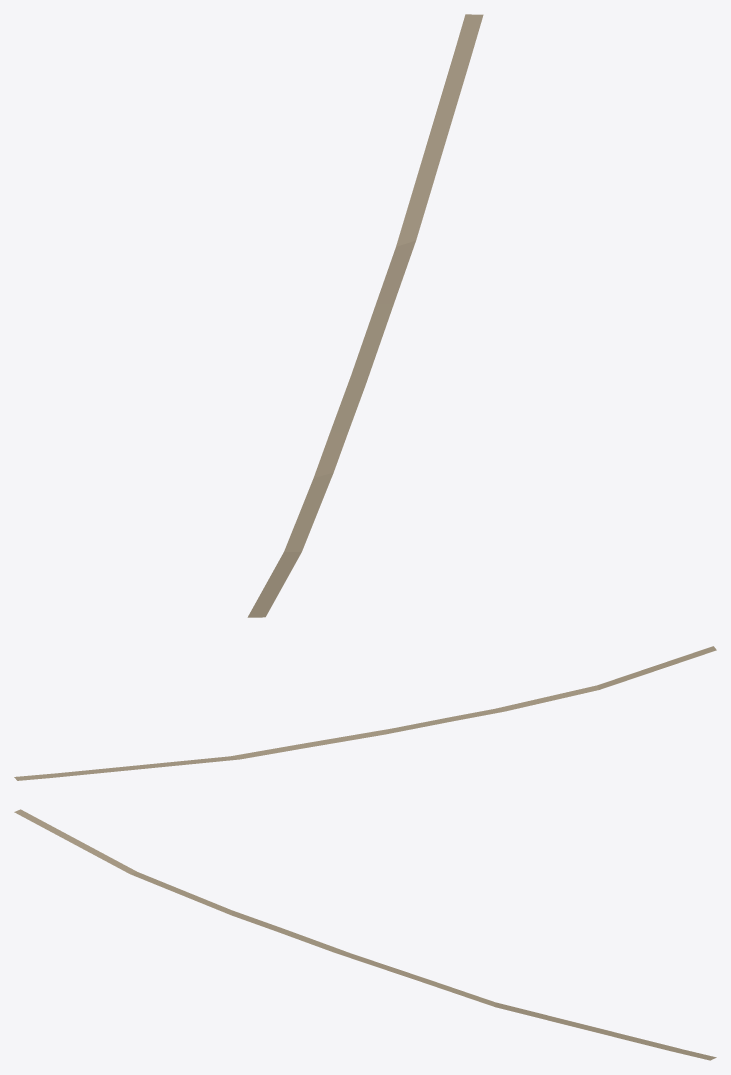
File: farm_-4_5_track.glb
3 views of the same model, one above another, from view 1: azimuth 30°, elevation 25°; view 2: azimuth 150°, elevation 25°; view 3: azimuth 270°, elevation 25° (orthographic). The views are drawn at different scales.
Visible parts, largest first — view 1: geometry_0; view 2: geometry_0; view 3: geometry_0.
Part boxes in pixels (<box>): geometry_0: <box>247,14,483,617</box>; geometry_0: <box>14,646,716,780</box>; geometry_0: <box>14,809,716,1060</box>.
Size of the model in its own units: 170 by 11.76 by 214.
